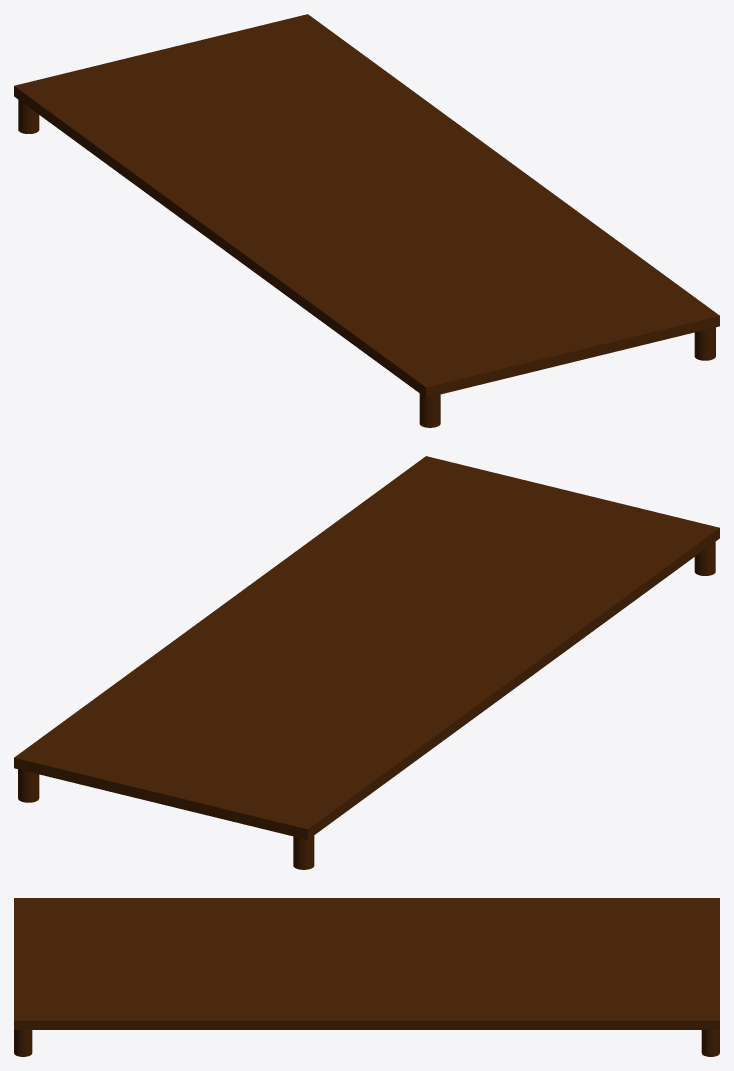
File: table.glb
3 renders of one model, top to bottom at view 1: azimuth 30°, elevation 25°; view 2: azimuth 150°, elevation 25°; view 3: azimuth 270°, elevation 25°, orthographic. The views are drawn at different scales.
Visible parts, largest first — view 1: TableTop, Leg.002, Leg.001; view 2: TableTop, Leg.004, Leg.003; view 3: TableTop, Leg.001, Leg.003.
Boxes of the visible parts, box(x1,y1,x2,y2) form: TableTop: box(14, 14, 719, 397); Leg.002: box(419, 393, 440, 427); Leg.001: box(694, 327, 715, 360); TableTop: box(14, 456, 719, 839); Leg.004: box(293, 835, 314, 869); Leg.003: box(18, 769, 39, 802); TableTop: box(14, 898, 719, 1029); Leg.001: box(14, 1030, 32, 1056); Leg.003: box(701, 1030, 719, 1056).
Size of the model in its own units: 2 by 0.2747 by 4.86.
